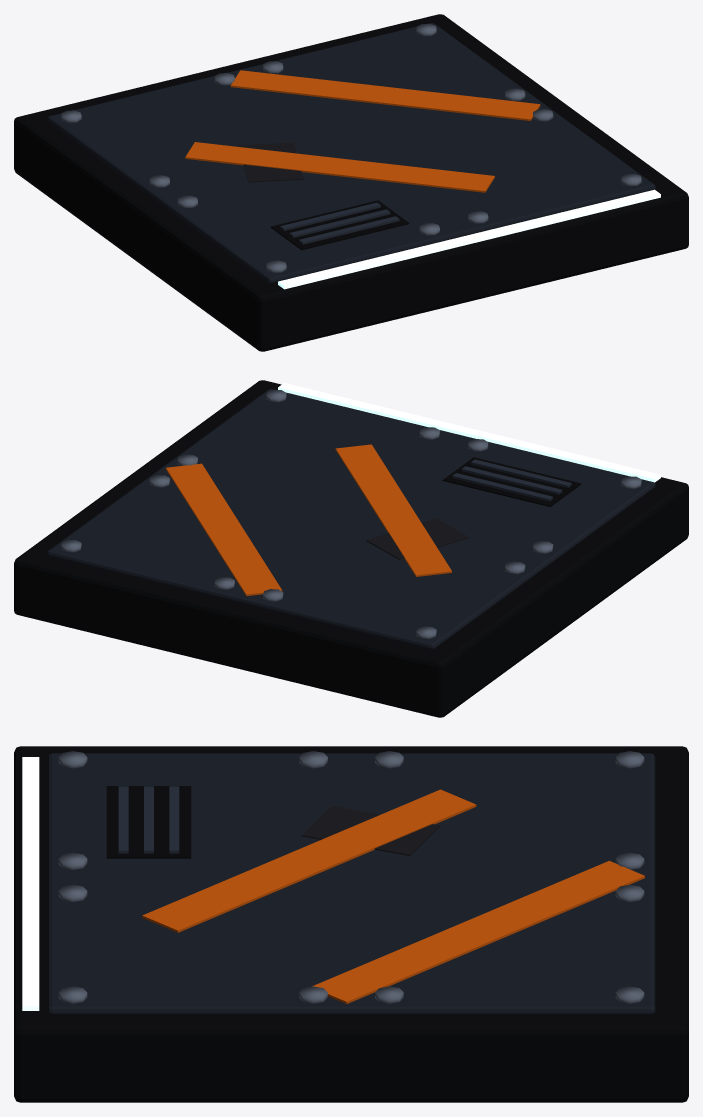
Rendered from FloorTileC.fbx.
The picture shows the model from 3 angles, top to bottom: view 1: azimuth 30°, elevation 25°; view 2: azimuth 150°, elevation 25°; view 3: azimuth 270°, elevation 25°; orthographic projection. The views are drawn at different scales.
Visible parts, largest first — view 1: Body, Groove_Glow; view 2: Body, Groove_Glow; view 3: Body, Groove_Glow.
Part boxes in pixels (x1=…): Body: x1=14, y1=14, x2=688, y2=351; Groove_Glow: x1=278, y1=189, x2=660, y2=289; Body: x1=14, y1=380, x2=688, y2=717; Groove_Glow: x1=278, y1=383, x2=660, y2=482; Body: x1=14, y1=746, x2=688, y2=1102; Groove_Glow: x1=22, y1=757, x2=39, y2=1010.
Size of the model in its own units: 8 by 1.15 by 8.
